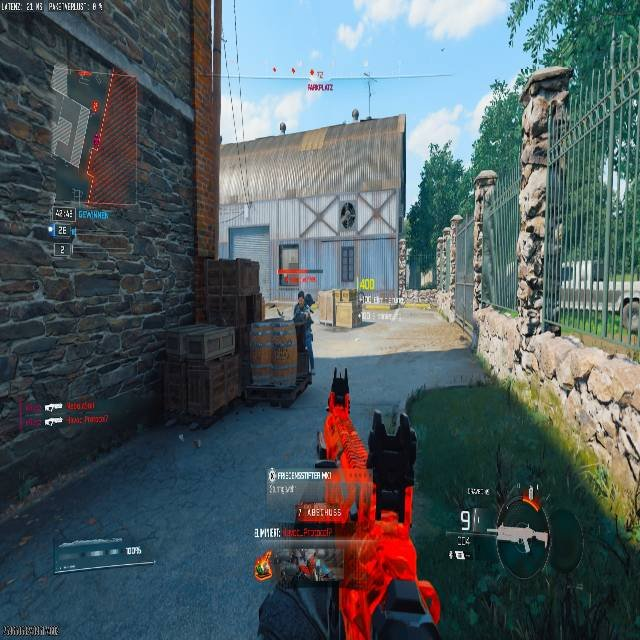head: (296, 286, 312, 306), (297, 291, 306, 303)
player: (293, 291, 315, 347), (340, 202, 356, 228), (279, 121, 286, 134)
